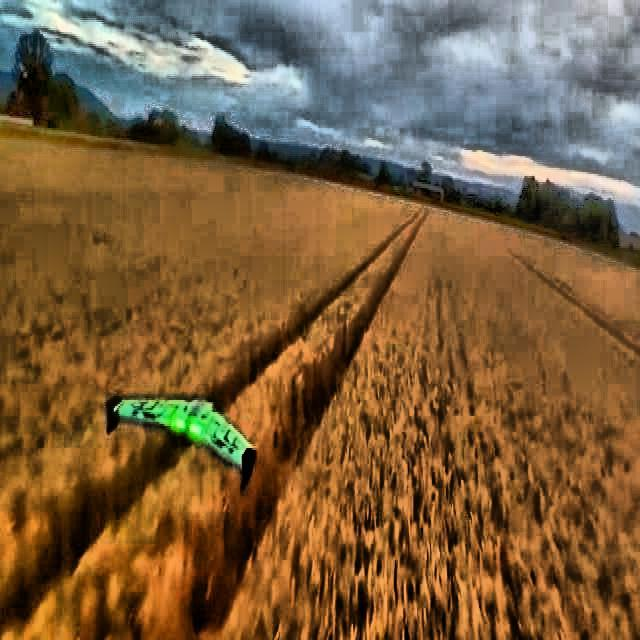iha: (98, 420, 267, 462)
